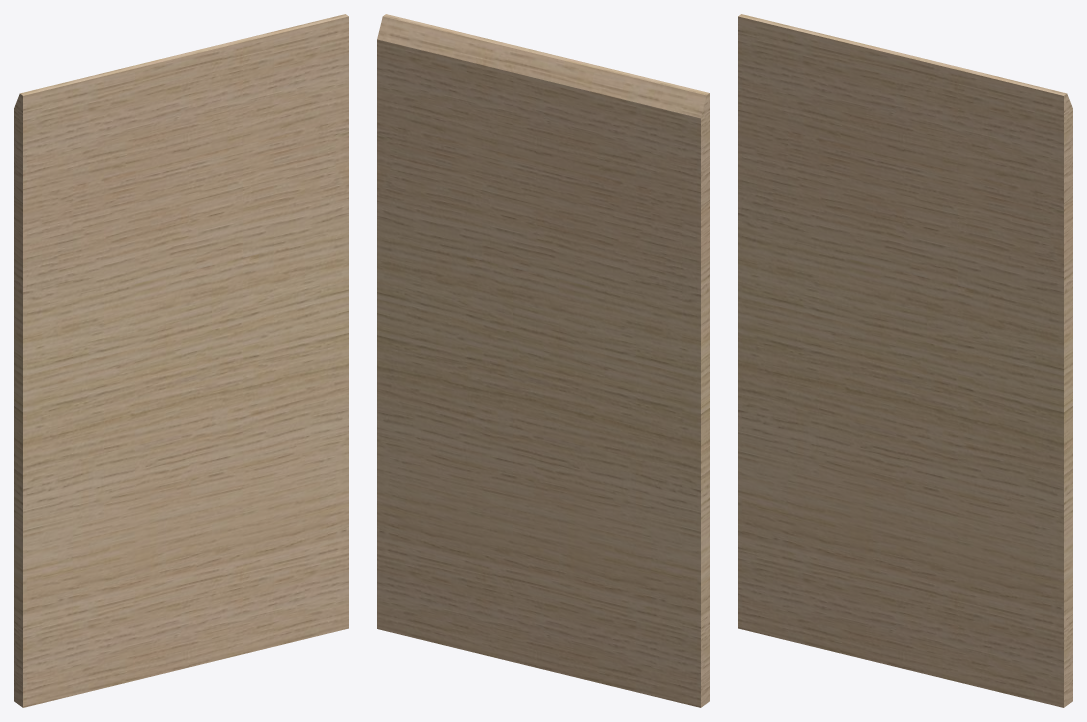
The model's file is dor_N1_dor_venstre.glb.
3 views of the same model, side by side, from view 1: azimuth 30°, elevation 25°; view 2: azimuth 150°, elevation 25°; view 3: azimuth 330°, elevation 25° (orthographic).
Size of the model in its own units: 396 by 710 by 19.
1 material, 1 textured.
